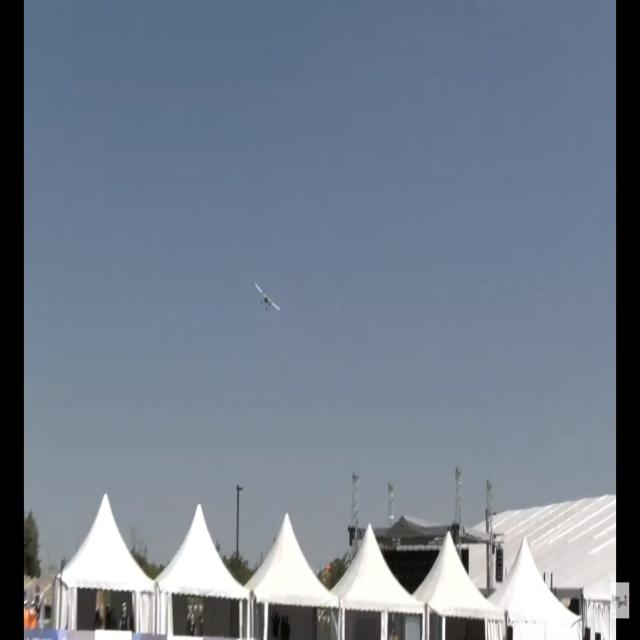iha: (248, 282, 274, 314)
